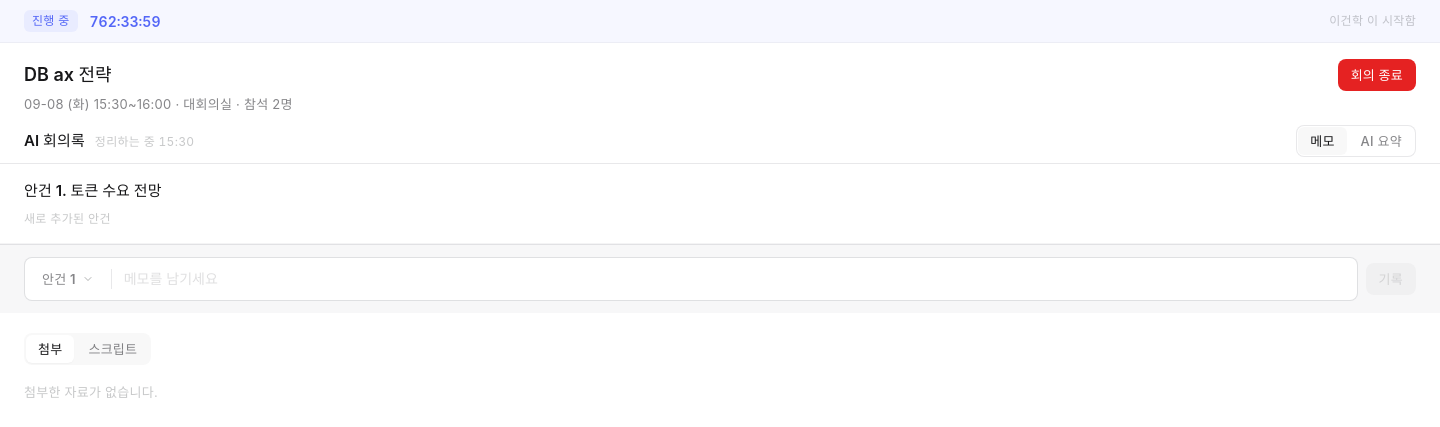
SCR-106 「진행 중」 — 회의 중 화면 다섯 곳 › 메모 칸은 그 줄을 채우고 [기록]은 칸 밖 오른쪽에 선다 — 안건 선택과 [+ 새 안건]은 그대로다
This screenshot has width=1440, height=427.
Expected: the heading "DB ax 전략" is shown, [24,62,112,88]
Expected: the element showing "안건 1 기록" is shown, [24,256,1416,300]
Step 1. Click the button "안건 1" → (68, 278), box [33,262,103,294]
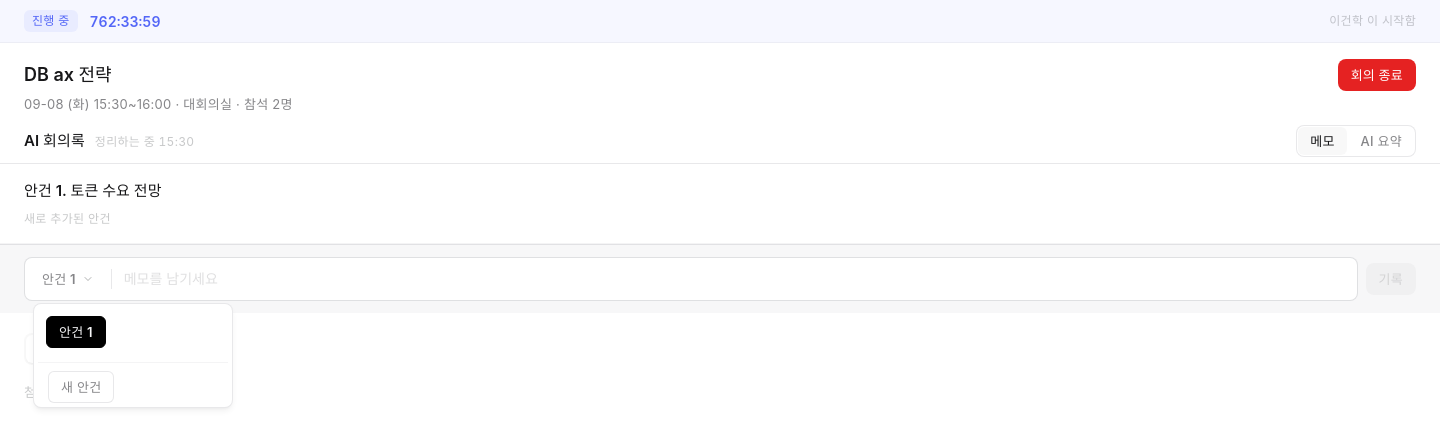
Result: the button "새 안건" is shown at [48,370,114,402]
